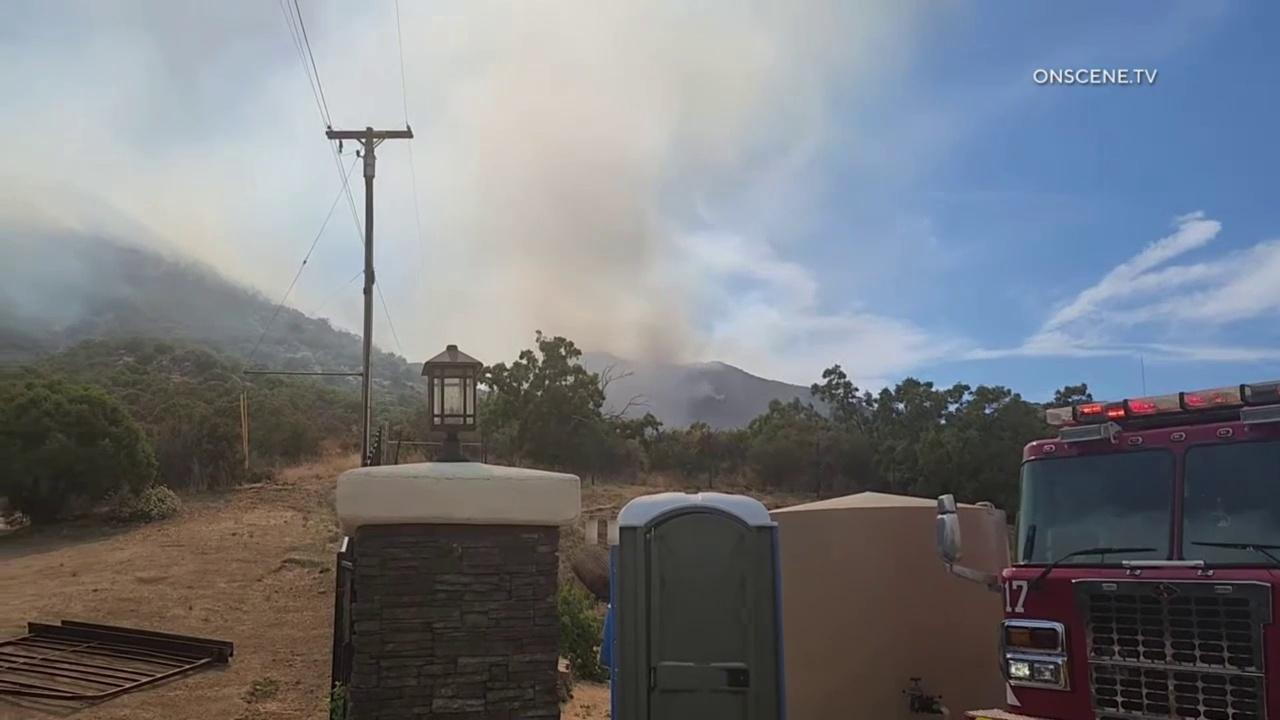smoke: (1, 0, 907, 430)
